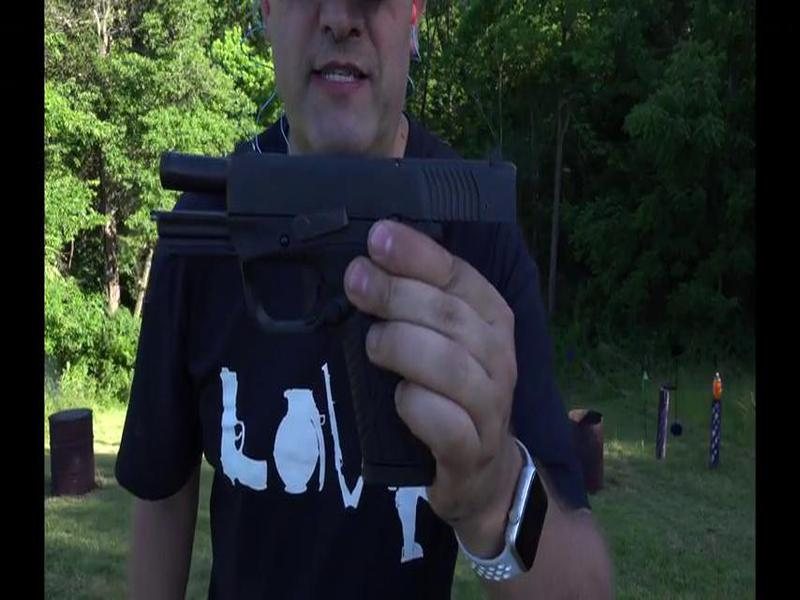Pistola: (141, 137, 527, 494)
